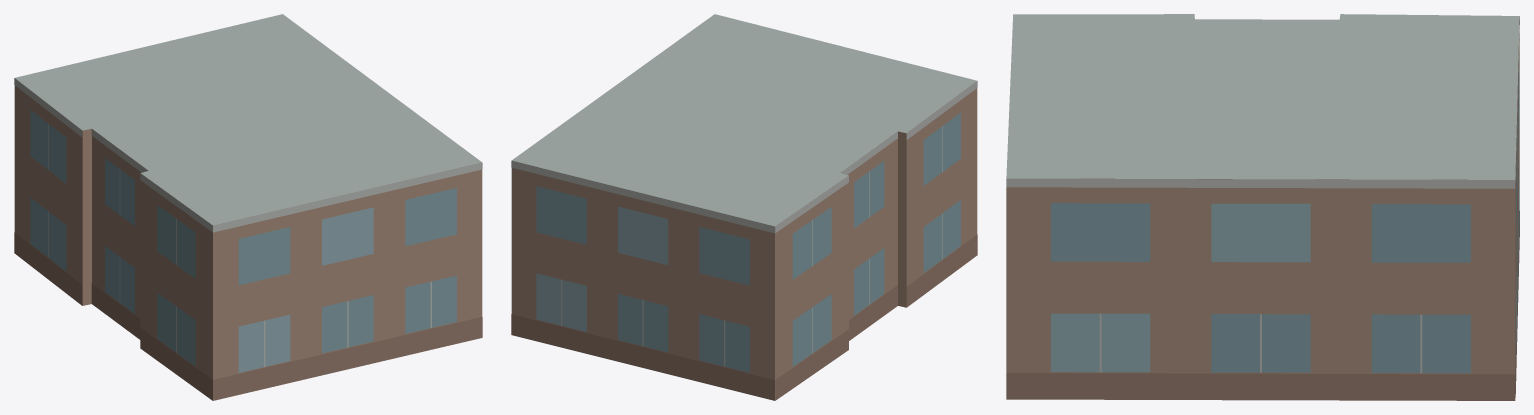
Rendered from survey-upis-32608708.glb.
3 views of the same model, side by side, from view 1: azimuth 30°, elevation 25°; view 2: azimuth 150°, elevation 25°; view 3: azimuth 270°, elevation 25° (orthographic). The views are drawn at different scales.
Visible parts, largest first — view 1: survey-upis-32608708.tmp; view 2: survey-upis-32608708.tmp; view 3: survey-upis-32608708.tmp.
Boxes of the visible parts, bbox=[...] form: survey-upis-32608708.tmp: bbox=[14, 14, 482, 400]; survey-upis-32608708.tmp: bbox=[511, 14, 977, 400]; survey-upis-32608708.tmp: bbox=[1006, 14, 1519, 400].
Size of the model in its own units: 9.83 by 6.1 by 12.85.
